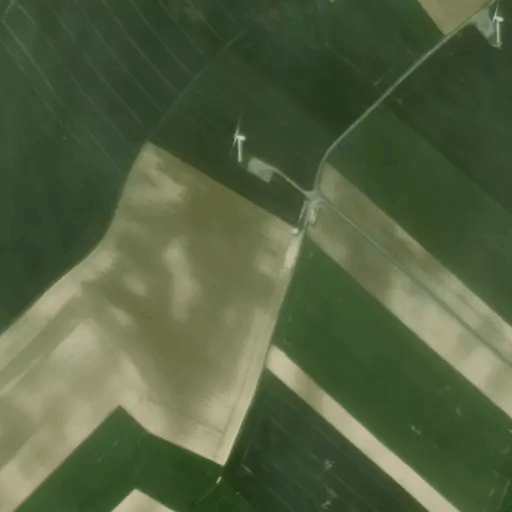wt: (225, 118, 253, 166), (488, 1, 509, 49)
